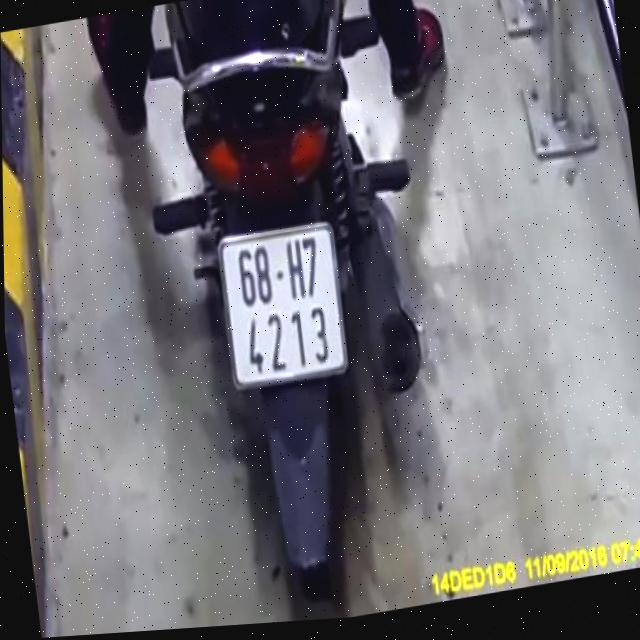motorcycle: (121, 0, 469, 632)
plate: (213, 213, 355, 401)
